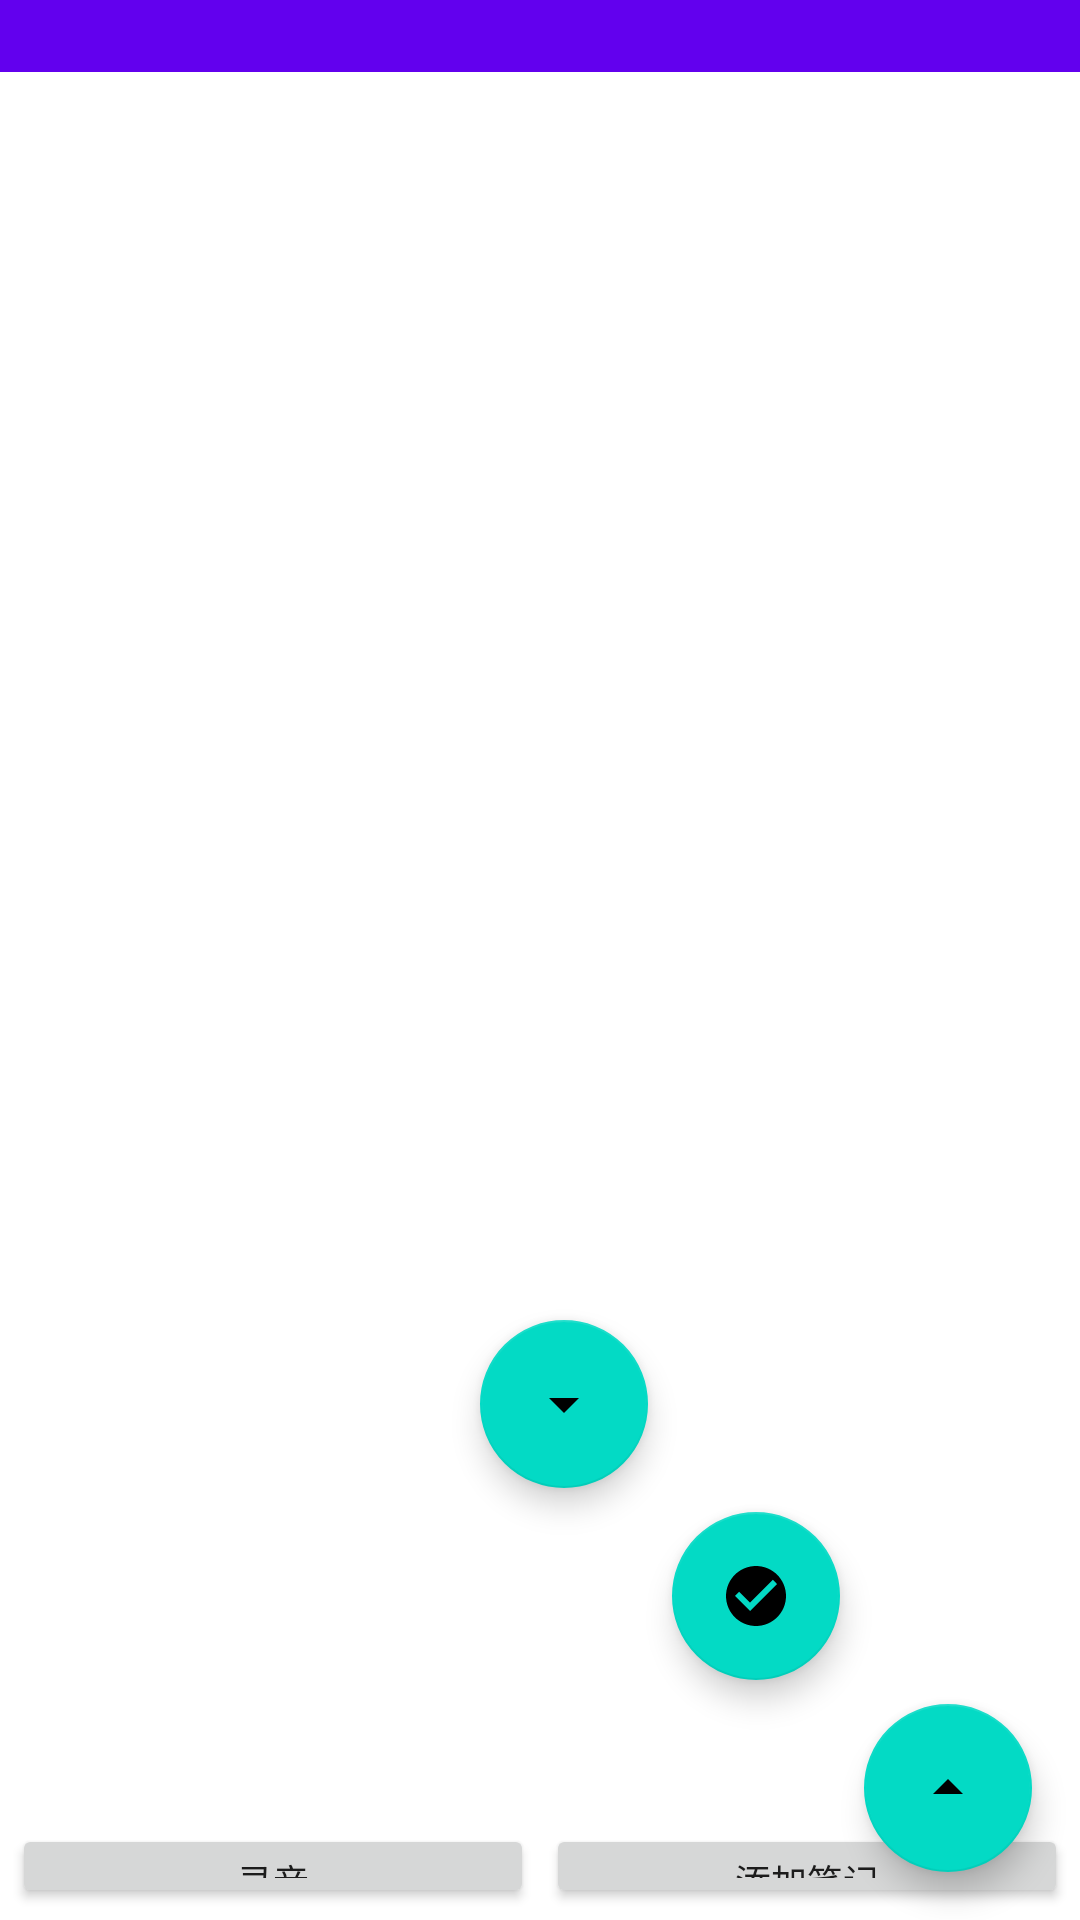

Icon bounding boxes for this 1080 × 1920 phone screenshot, format (x1, y1, x2, y2):
回到底部: (480, 1320, 648, 1488)
回到顶部: (864, 1704, 1032, 1872)
最后已读: (672, 1512, 840, 1680)
